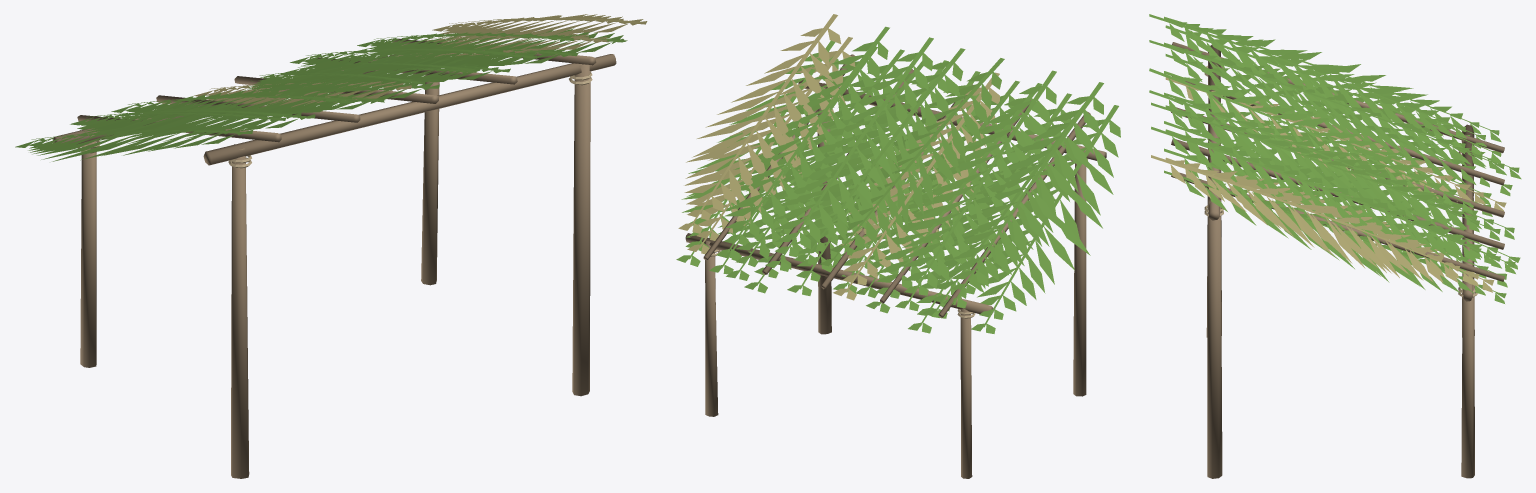
Rendered from shelter_minimum.glb.
3 renders of one model, left to right at view 1: azimuth 30°, elevation 25°; view 2: azimuth 150°, elevation 25°; view 3: azimuth 270°, elevation 25°, orthographic. The views are drawn at different scales.
Visible parts, largest first — view 1: PostFront1, BeamFront, PostFront0, PostBack0, FrondTop0, FrondTop2, Frond0, PostBack1, FrondTop4, FrondTop1, FrondTop3, FrondTop5 (+13 smaller); view 2: FrondTop0, FrondTop2, FrondTop4, FrondTop1, FrondTop3, FrondTop5, FrondTop6, Frond0, Frond8, Frond9, Frond12, Frond7 (+17 smaller); view 3: FrondTop4, FrondTop0, FrondTop3, FrondTop2, FrondTop5, FrondTop1, FrondTop6, PostFront1, Frond7, Frond8, Frond12, Frond6 (+17 smaller).
Boxes of the visible parts, box(x1,y1,x2,y2) form: PostFront1: box(572, 64, 590, 396); BeamFront: box(203, 54, 616, 165); PostFront0: box(231, 144, 249, 478); PostBack0: box(80, 132, 96, 367); FrondTop0: box(70, 102, 293, 139); FrondTop2: box(290, 43, 515, 77); Frond0: box(15, 126, 252, 161); PostBack1: box(421, 56, 439, 285); FrondTop4: box(432, 14, 647, 42); FrondTop1: box(111, 89, 352, 124); FrondTop3: box(357, 30, 574, 57); FrondTop5: box(245, 73, 425, 94); FrondTop0: box(942, 82, 1103, 308); FrondTop2: box(765, 37, 933, 271); FrondTop4: box(678, 14, 841, 233); FrondTop1: box(895, 70, 1056, 311); FrondTop3: box(716, 26, 889, 259); FrondTop5: box(820, 58, 1004, 269); FrondTop6: box(794, 48, 965, 264); Frond0: box(971, 105, 1120, 333); Frond8: box(866, 83, 1042, 313); Frond9: box(833, 72, 999, 300); Frond12: box(687, 37, 855, 254); Frond7: box(922, 104, 1094, 318); FrondTop4: box(1151, 155, 1479, 286); FrondTop0: box(1149, 14, 1486, 146); FrondTop3: box(1151, 126, 1501, 268); FrondTop2: box(1151, 102, 1500, 240); FrondTop5: box(1149, 68, 1473, 213); FrondTop1: box(1149, 40, 1506, 175); FrondTop6: box(1149, 90, 1477, 226); PostFront1: box(1207, 198, 1222, 478); Frond7: box(1165, 25, 1501, 163); Frond8: box(1165, 54, 1512, 195); Frond12: box(1165, 157, 1494, 292); Frond6: box(1164, 170, 1506, 303).
Size of the model in its own units: 4.08 by 2.86 by 2.94.
